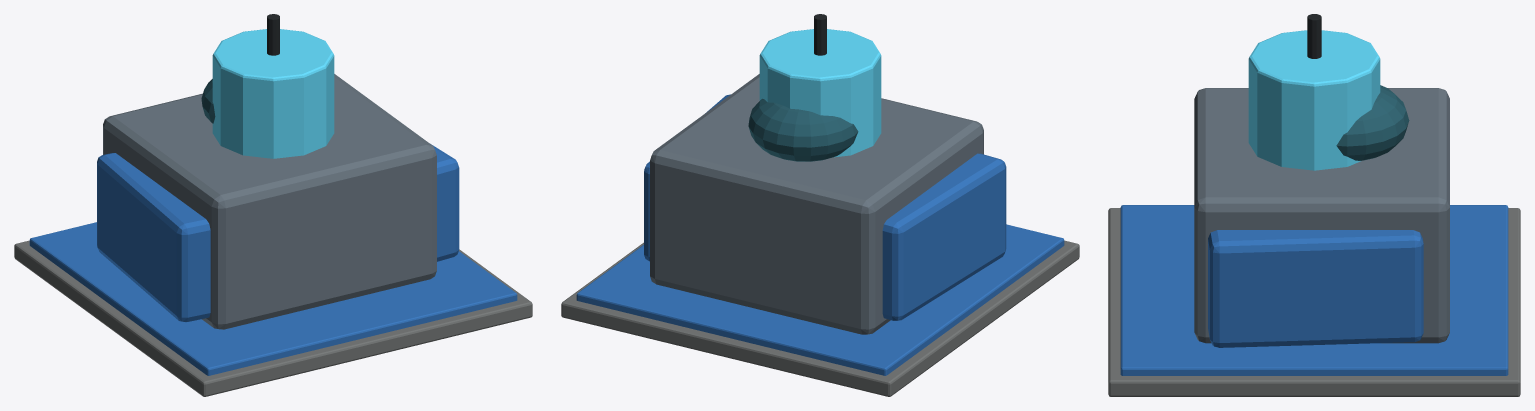
File: SM_Alliance_AL_ConYard.fbx
The picture shows the model from 3 angles, left to right: view 1: azimuth 30°, elevation 25°; view 2: azimuth 150°, elevation 25°; view 3: azimuth 270°, elevation 25°; orthographic projection. The views are drawn at different scales.
Visible parts, largest first — view 1: SM_Alliance_AL_ConYard_MainMass, SM_Alliance_AL_ConYard_FoundationTrim, SM_Alliance_AL_ConYard_CommandCore, SM_Alliance_AL_ConYard_Module_-1, SM_Alliance_AL_ConYard, SM_Alliance_AL_ConYard_Module_+1, SM_Alliance_AL_ConYard_Antenna; view 2: SM_Alliance_AL_ConYard_MainMass, SM_Alliance_AL_ConYard_FoundationTrim, SM_Alliance_AL_ConYard_Module_-1, SM_Alliance_AL_ConYard, SM_Alliance_AL_ConYard_CommandCore, SM_Alliance_AL_ConYard_SensorDome, SM_Alliance_AL_ConYard_Module_+1, SM_Alliance_AL_ConYard_Antenna; view 3: SM_Alliance_AL_ConYard_FoundationTrim, SM_Alliance_AL_ConYard_MainMass, SM_Alliance_AL_ConYard_Module_+1, SM_Alliance_AL_ConYard_CommandCore, SM_Alliance_AL_ConYard, SM_Alliance_AL_ConYard_SensorDome, SM_Alliance_AL_ConYard_Antenna.
Part boxes in pixels (box(x1,y1,x2,y2)): SM_Alliance_AL_ConYard_MainMass: box(103, 74, 436, 329); SM_Alliance_AL_ConYard_FoundationTrim: box(29, 222, 517, 375); SM_Alliance_AL_ConYard_CommandCore: box(212, 29, 334, 158); SM_Alliance_AL_ConYard_Module_-1: box(97, 153, 210, 322); SM_Alliance_AL_ConYard: box(14, 240, 532, 396); SM_Alliance_AL_ConYard_Module_+1: box(431, 144, 459, 261); SM_Alliance_AL_ConYard_Antenna: box(267, 14, 279, 55); SM_Alliance_AL_ConYard_MainMass: box(650, 74, 983, 334); SM_Alliance_AL_ConYard_FoundationTrim: box(576, 224, 1064, 375); SM_Alliance_AL_ConYard_Module_-1: box(882, 153, 1006, 320); SM_Alliance_AL_ConYard: box(561, 240, 1079, 396); SM_Alliance_AL_ConYard_CommandCore: box(759, 29, 881, 157); SM_Alliance_AL_ConYard_SensorDome: box(748, 98, 858, 161); SM_Alliance_AL_ConYard_Module_+1: box(644, 94, 730, 261); SM_Alliance_AL_ConYard_Antenna: box(814, 14, 826, 55); SM_Alliance_AL_ConYard_FoundationTrim: box(1120, 205, 1508, 375); SM_Alliance_AL_ConYard_MainMass: box(1194, 88, 1449, 343); SM_Alliance_AL_ConYard_Module_+1: box(1208, 230, 1423, 347); SM_Alliance_AL_ConYard_CommandCore: box(1248, 30, 1380, 170); SM_Alliance_AL_ConYard: box(1108, 208, 1520, 396); SM_Alliance_AL_ConYard_SensorDome: box(1336, 85, 1409, 160); SM_Alliance_AL_ConYard_Antenna: box(1307, 14, 1321, 58).
Size of what is drawn, in the model's own units: 800 by 800 by 630.
